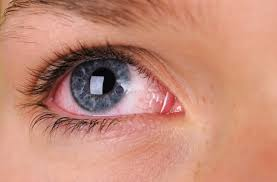pupil: (70, 61, 129, 110)
